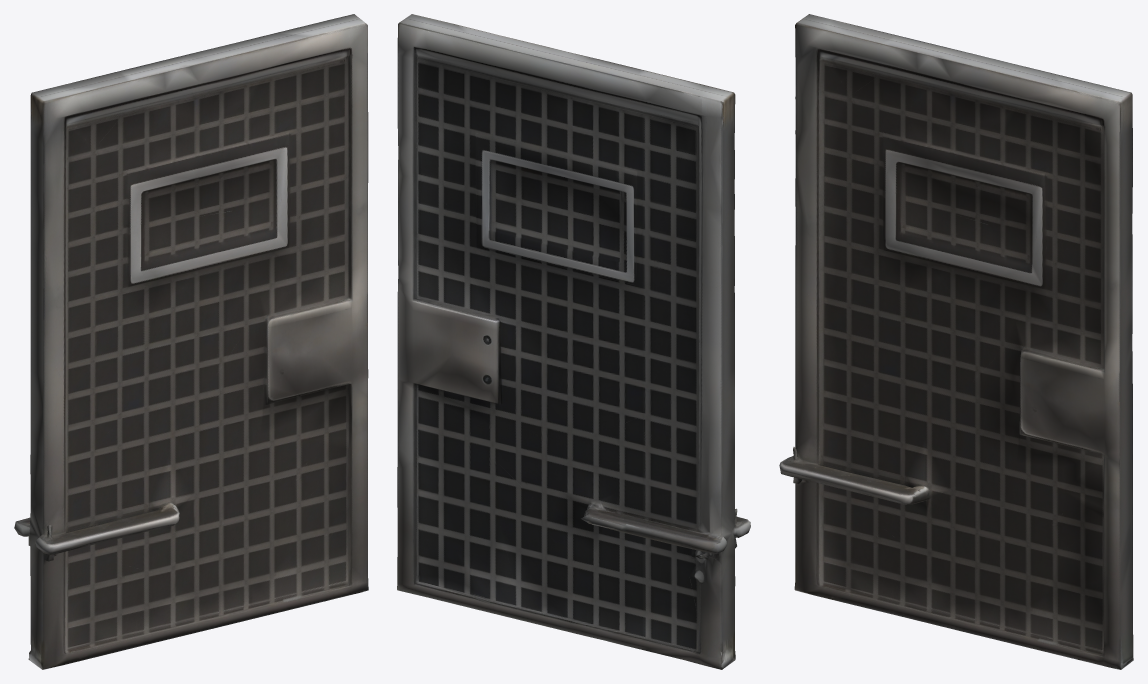
The model's file is DoorCell.fbx.
3 views of the same model, side by side, from view 1: azimuth 30°, elevation 25°; view 2: azimuth 150°, elevation 25°; view 3: azimuth 330°, elevation 25° (orthographic).
Parts seen in each view (by area): view 1: Mesh_0; view 2: Mesh_0; view 3: Mesh_0.
Boxes of the visible parts, x1,y1,x2,y2 form: Mesh_0: (14,14,368,669); Mesh_0: (397,14,750,669); Mesh_0: (779,14,1133,669).
Bounding box in the file's own units: 123 × 200 × 25.24.
Materials: 1 (1 with a texture image).
